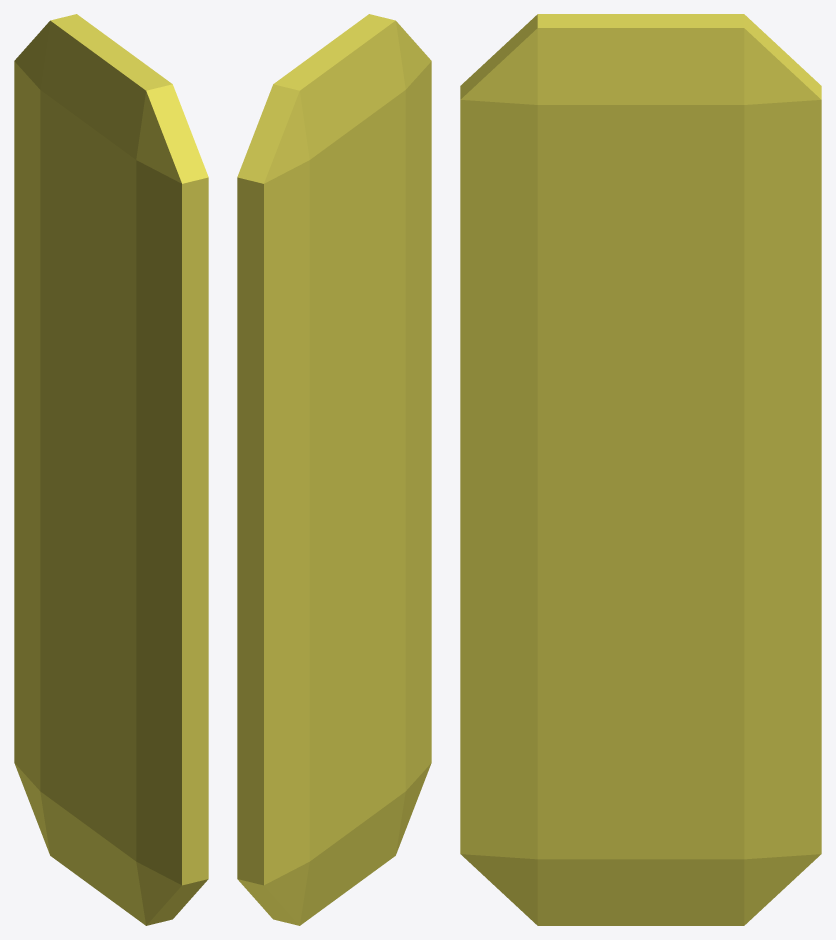
3 renders of one model, left to right at view 1: azimuth 30°, elevation 25°; view 2: azimuth 150°, elevation 25°; view 3: azimuth 270°, elevation 25°, orthographic. The views are drawn at different scales.
Parts seen in each view (by area): view 1: Cube; view 2: Cube; view 3: Cube.
Boxes of the visible parts, x1,y1,x2,y2 form: Cube: [14, 14, 208, 925]; Cube: [237, 14, 431, 925]; Cube: [460, 14, 821, 925].
Bounding box in the file's own units: 0.3203 × 5.49 × 2.
